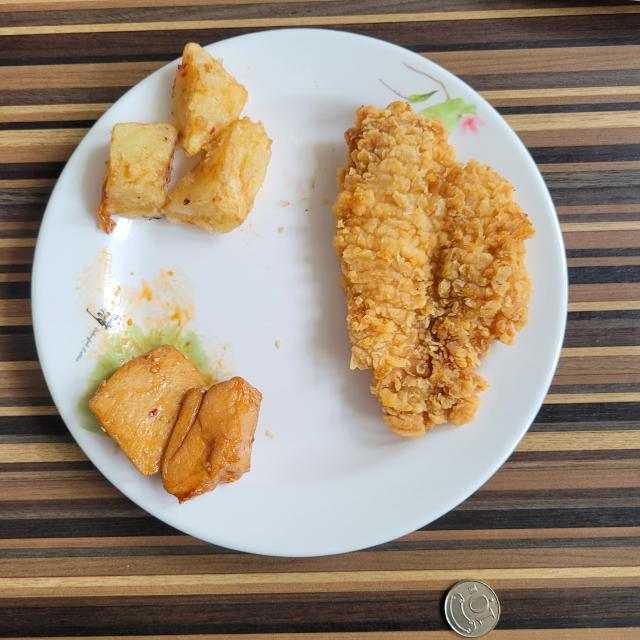coin: (445, 580, 500, 638)
creamy tofu: (89, 345, 262, 502)
fried chicken cutlet: (334, 101, 534, 436)
fried potato: (99, 42, 271, 232)
